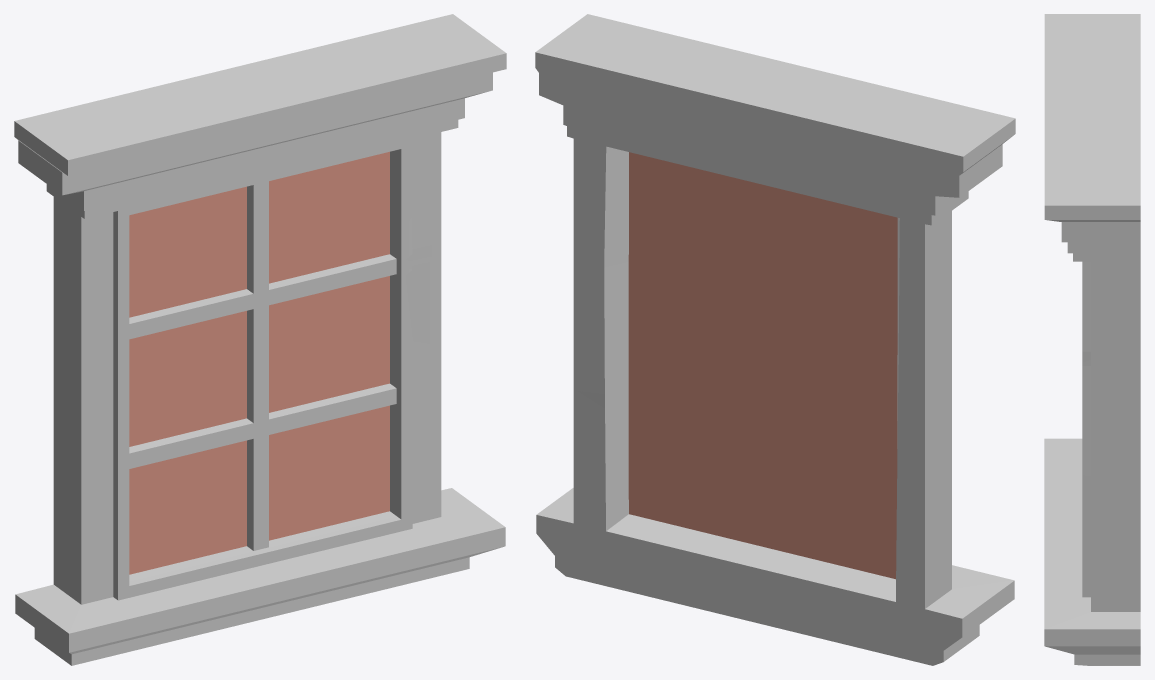
Rendered from kleines_Fenster.fbx.
The picture shows the model from 3 angles, left to right: view 1: azimuth 30°, elevation 25°; view 2: azimuth 150°, elevation 25°; view 3: azimuth 270°, elevation 25°; orthographic projection. The views are drawn at different scales.
Parts seen in each view (by area): view 1: fenster.001; view 2: fenster.001; view 3: fenster.001.
Boxes of the visible parts, box(x1,y1,x2,y2) form: fenster.001: box(14, 14, 506, 665); fenster.001: box(535, 14, 1015, 665); fenster.001: box(1044, 14, 1140, 665).
Bounding box in the file's own units: 19.5 × 22.49 × 4.13.
